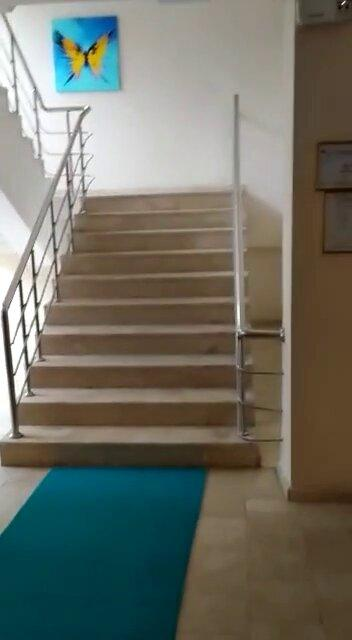Bench: (73, 191, 226, 458)
